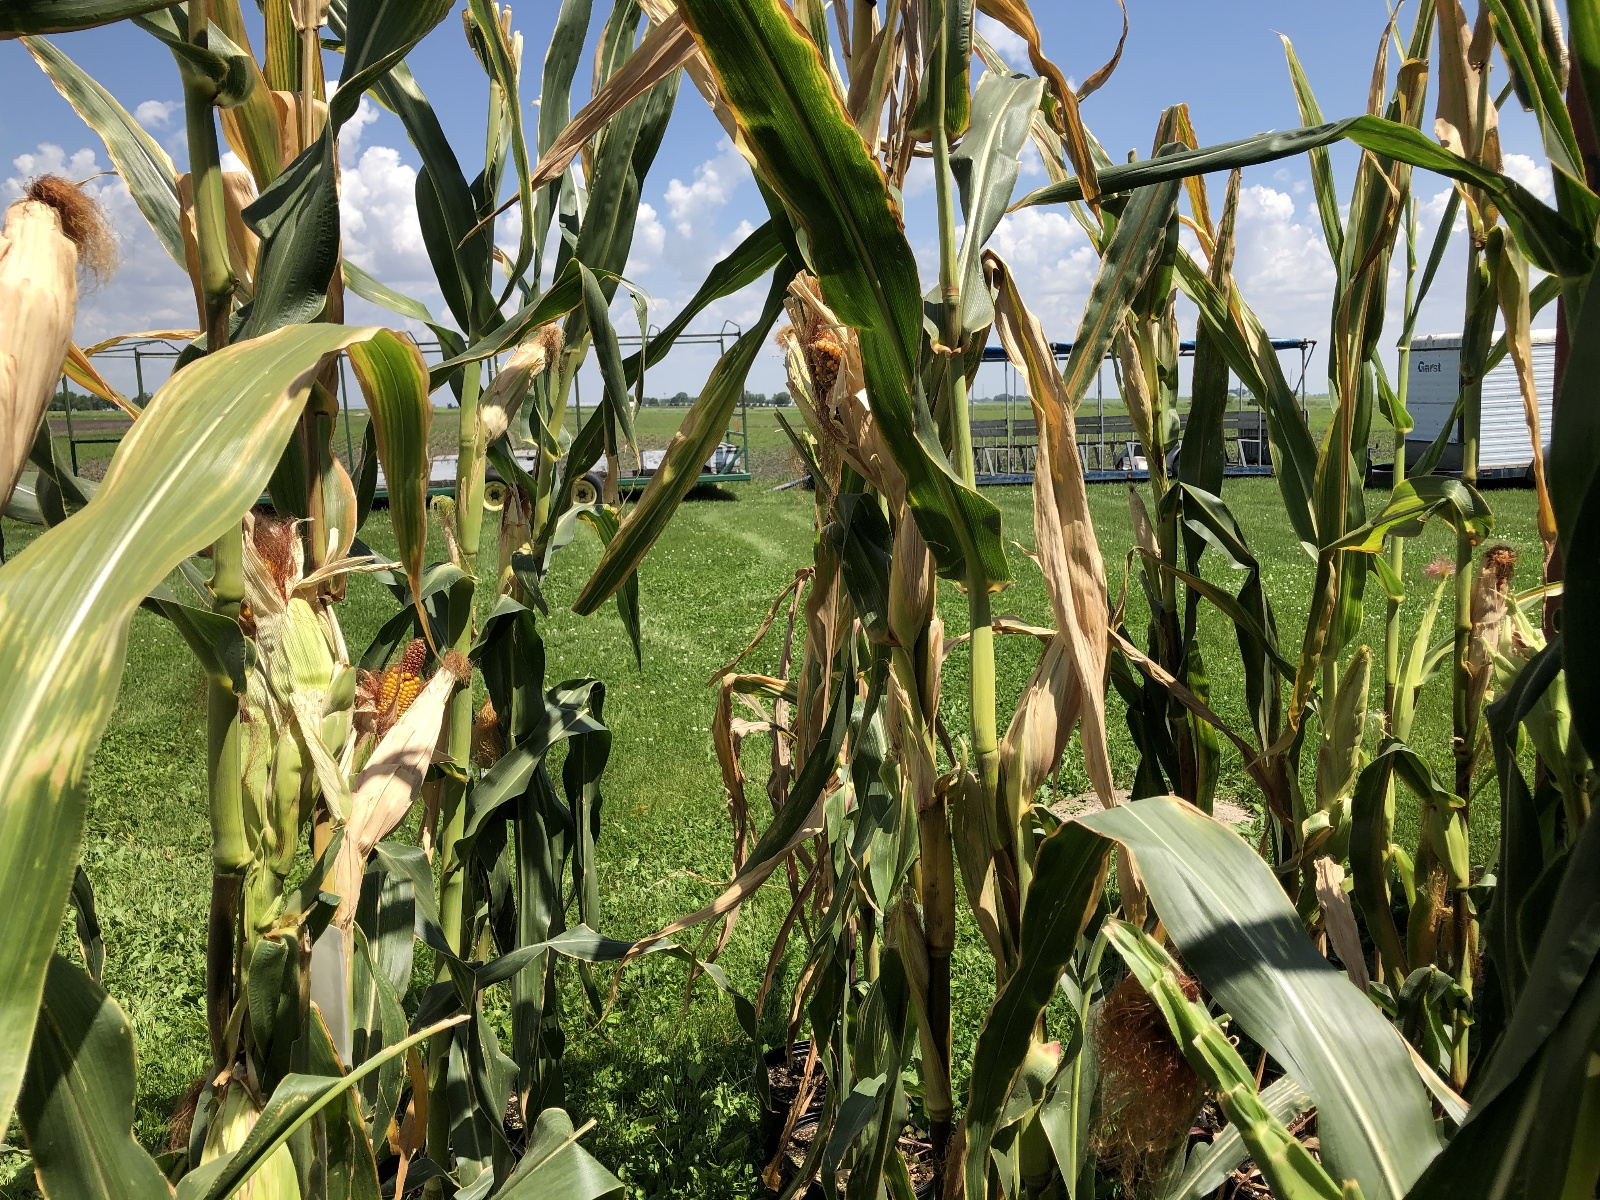ear: (1, 170, 113, 500), (346, 645, 472, 858), (246, 498, 340, 705), (792, 323, 894, 470), (467, 319, 567, 435), (1466, 539, 1526, 677), (373, 632, 436, 724)
